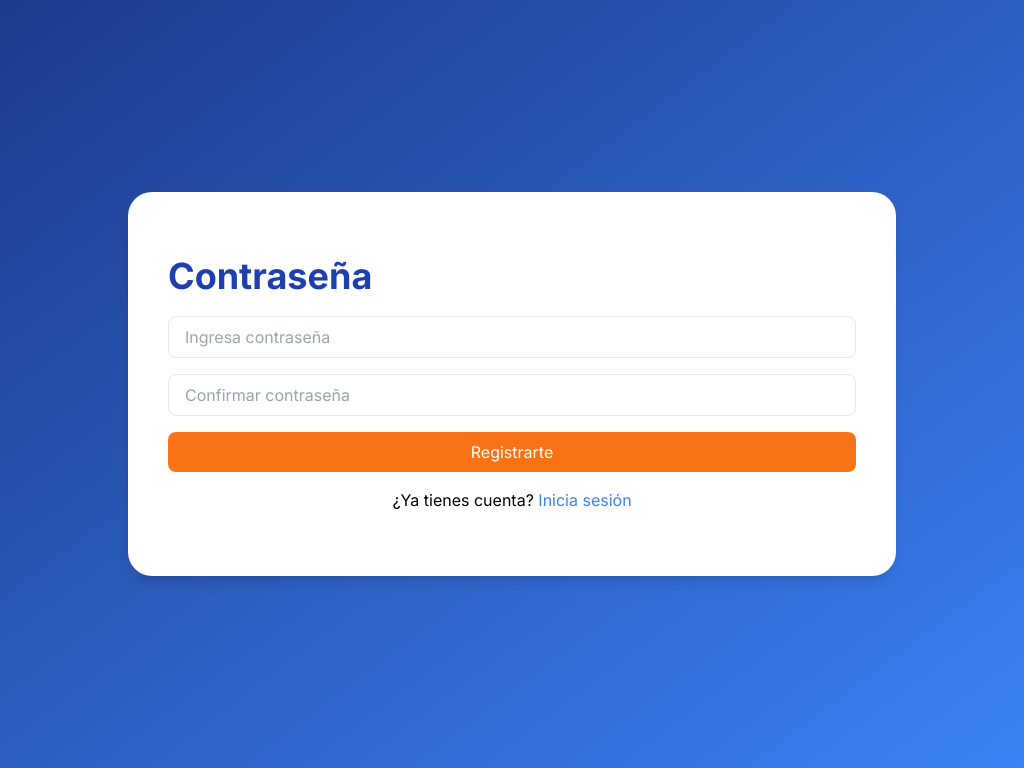
Test: Password.jsx › error si campos vacíos
Step 1. Click the button "Registrarte" → [512, 452], box [168,432,856,472]
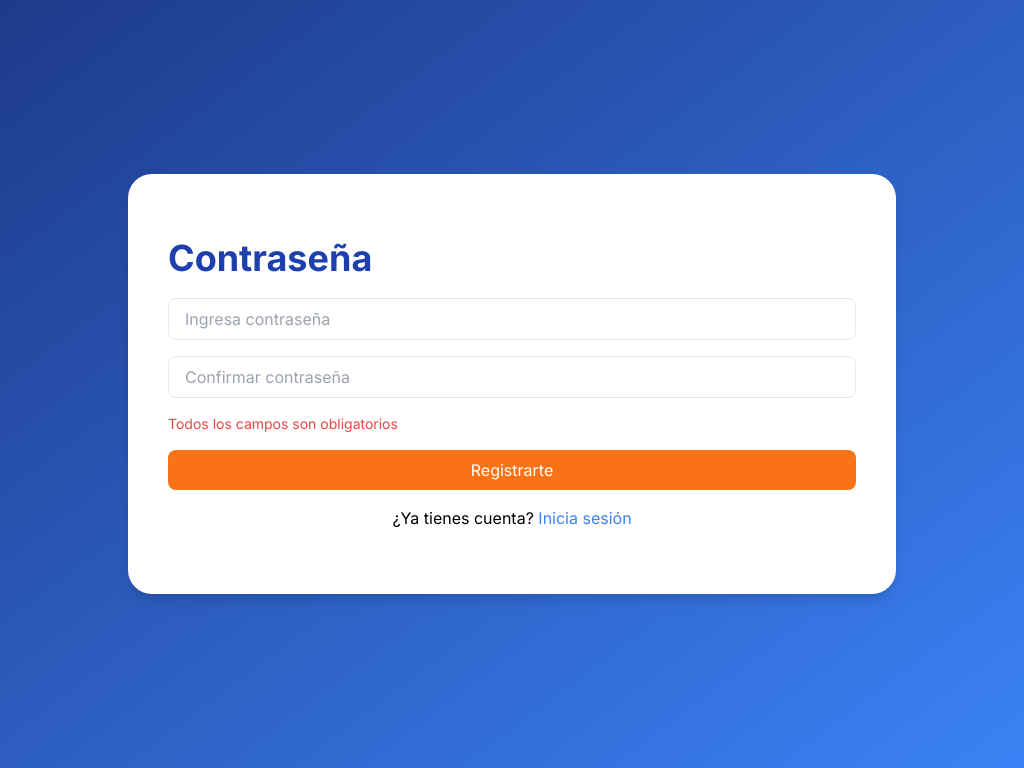
Now the text "Todos los campos son obligatorios" is shown, box [168,415,398,432]
